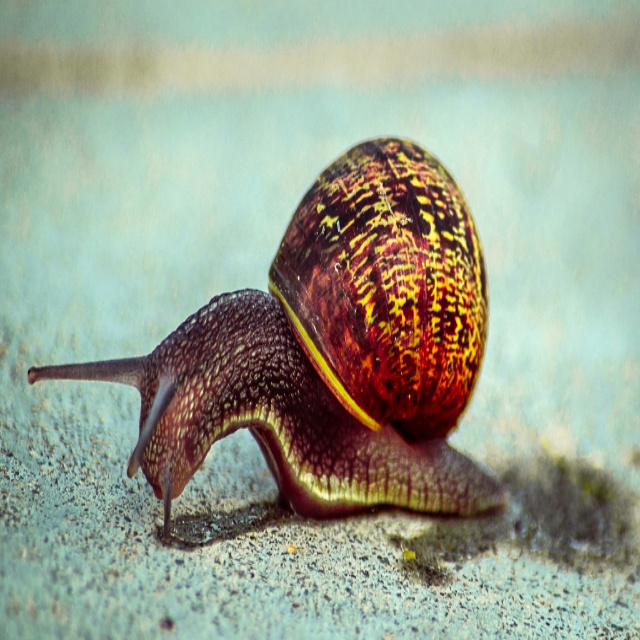Snail: (28, 136, 508, 543)
